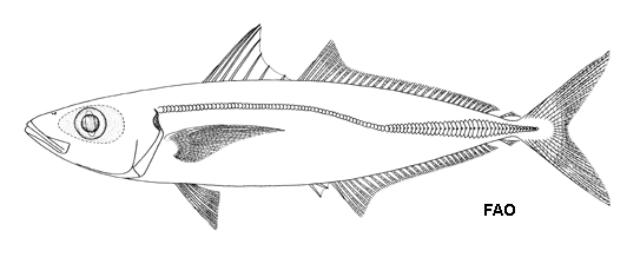Mulut: (18, 110, 66, 164)
Sirip Anal: (332, 137, 502, 222)
Sirip Dada: (166, 118, 290, 167)
Sirip Ekor: (530, 45, 618, 212)
Sirip Perut: (174, 176, 223, 233)
Sirip Punggung: (204, 18, 498, 112)
